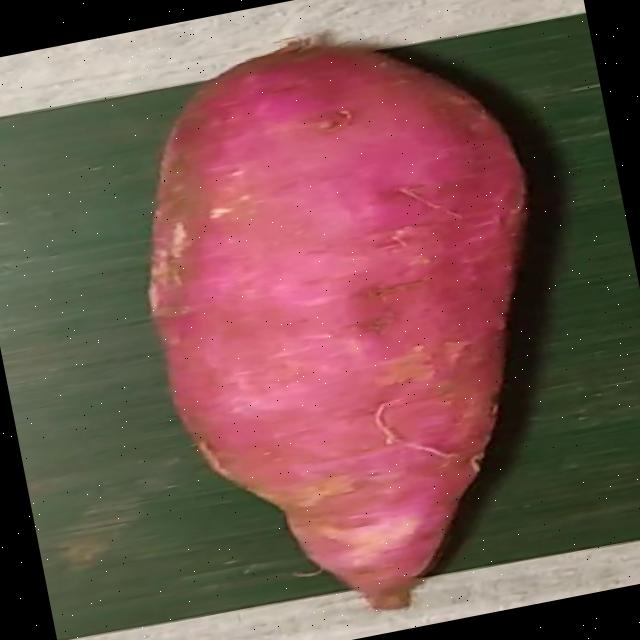Sweet Potato: (147, 48, 527, 607)
